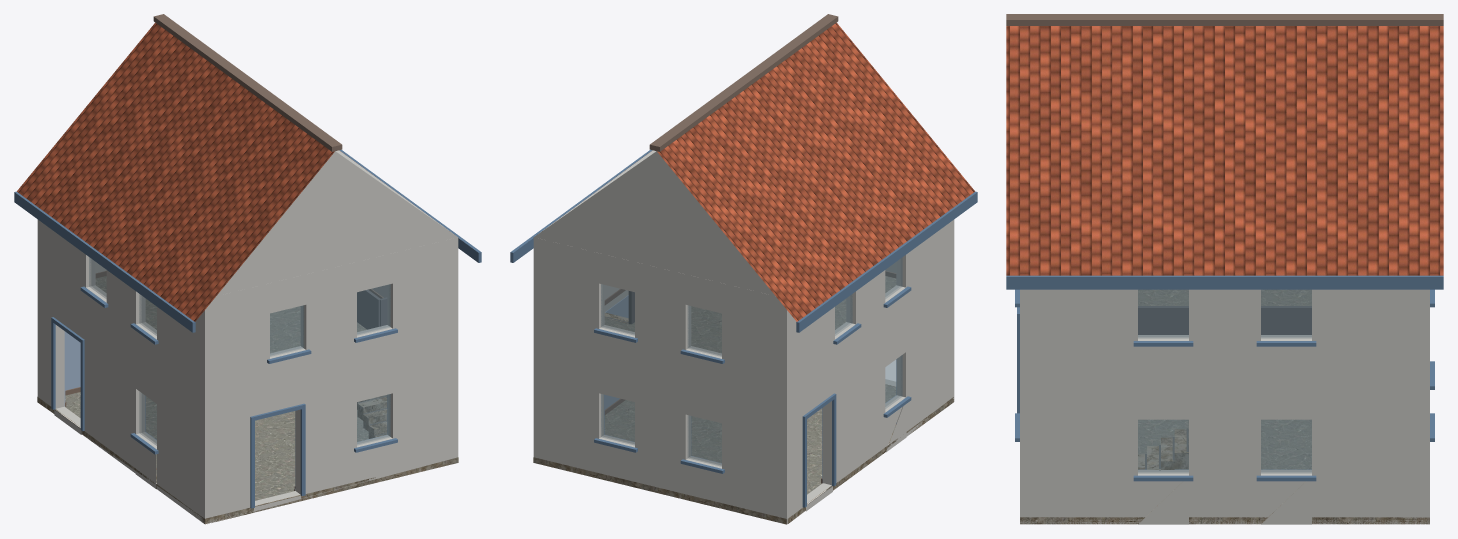
File: cottage-white.glass-v1.lod0.glb
3 renders of one model, left to right at view 1: azimuth 30°, elevation 25°; view 2: azimuth 150°, elevation 25°; view 3: azimuth 270°, elevation 25°, orthographic. The views are drawn at different scales.
Parts seen in each view (by area): view 1: cottage-white; view 2: cottage-white; view 3: cottage-white.
Part boxes in pixels (x1,y1,x2,y2): cottage-white: (14, 14, 481, 524); cottage-white: (510, 14, 977, 524); cottage-white: (1006, 14, 1443, 524).
Size of the model in its own units: 7.98 by 9.31 by 8.54.
5 materials, 3 textured.
